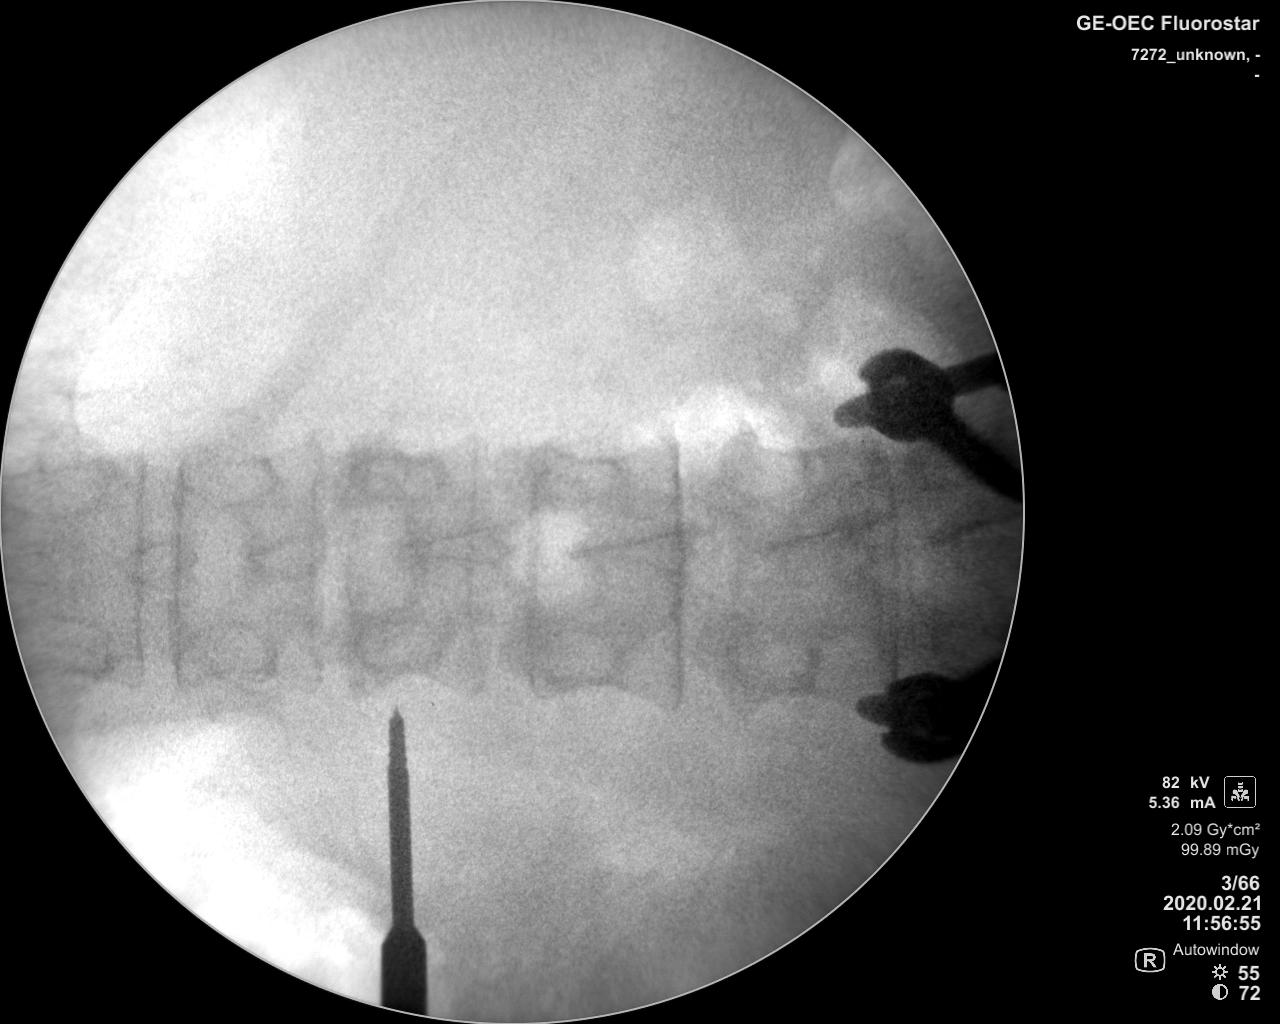eyes: (522, 433, 626, 515), (725, 421, 818, 511), (725, 614, 819, 696), (176, 615, 277, 684), (530, 621, 625, 691), (352, 613, 451, 680), (345, 447, 444, 513), (176, 441, 278, 503)
line: (452, 425, 502, 696), (656, 411, 696, 730), (859, 436, 906, 684), (117, 433, 156, 691), (300, 429, 334, 685), (160, 430, 193, 692)
nose: (554, 522, 704, 580), (750, 519, 878, 571), (402, 519, 519, 571), (229, 529, 333, 581), (103, 537, 200, 587)
